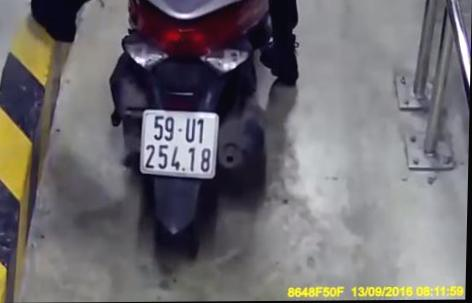License_Plate: (135, 104, 228, 185)
